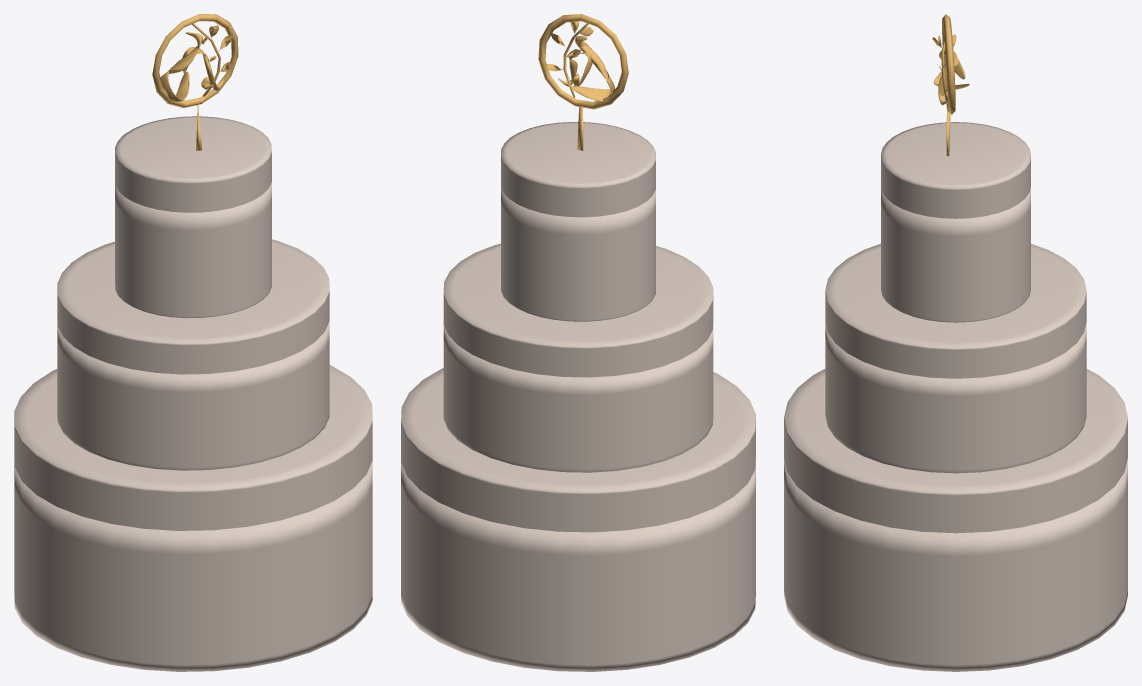
The model's file is 3-tier-white-none-ring.glb.
3 views of the same model, side by side, from view 1: azimuth 30°, elevation 25°; view 2: azimuth 150°, elevation 25°; view 3: azimuth 270°, elevation 25° (orthographic).
Visible parts, largest first — view 1: Cylinder.022, Cylinder.014, Cylinder.021, Cylinder.020; view 2: Cylinder.022, Cylinder.014, Cylinder.021, Cylinder.020; view 3: Cylinder.022, Cylinder.014, Cylinder.021, Cylinder.020.
Part boxes in pixels (<box>): Cylinder.022: <box>14,365,372,671</box>; Cylinder.014: <box>57,239,329,470</box>; Cylinder.021: <box>115,116,271,318</box>; Cylinder.020: <box>152,14,238,150</box>; Cylinder.022: <box>401,368,755,671</box>; Cylinder.014: <box>443,243,713,472</box>; Cylinder.021: <box>501,122,655,321</box>; Cylinder.020: <box>538,14,628,150</box>; Cylinder.022: <box>784,369,1127,671</box>; Cylinder.014: <box>825,243,1086,473</box>; Cylinder.021: <box>881,122,1030,322</box>; Cylinder.020: <box>932,14,969,156</box>.
Size of the model in its own units: 4.22 by 7.52 by 4.06.
